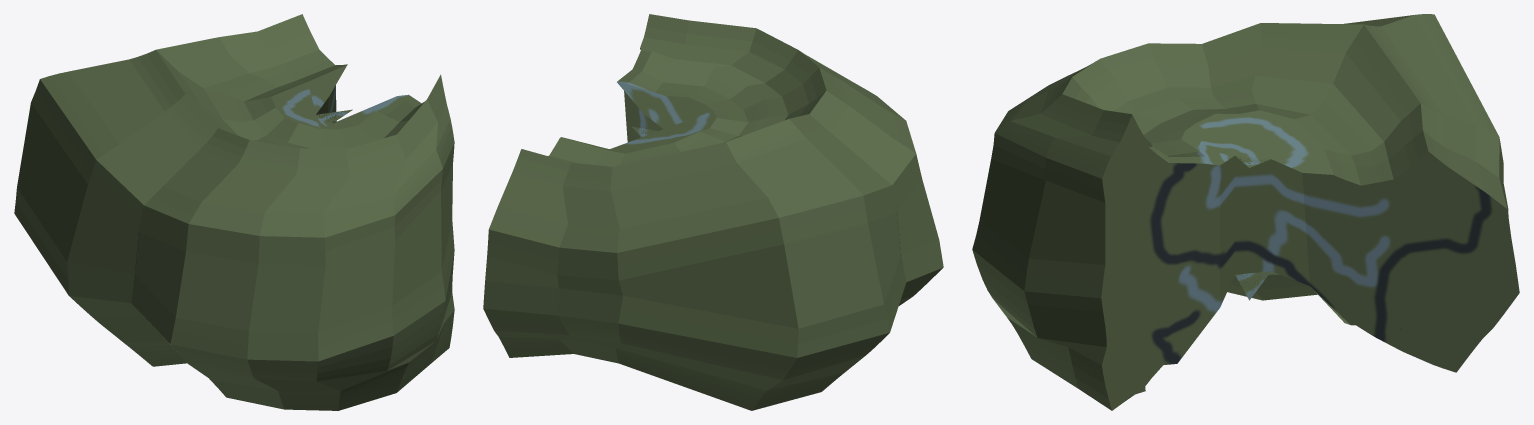
File: kapotteFossil1.glb
3 renders of one model, left to right at view 1: azimuth 30°, elevation 25°; view 2: azimuth 150°, elevation 25°; view 3: azimuth 270°, elevation 25°, orthographic. The views are drawn at different scales.
Visible parts, largest first — view 1: Plane; view 2: Plane; view 3: Plane.
Part boxes in pixels (x1=…): Plane: x1=14, y1=14, x2=454, y2=410; Plane: x1=483, y1=14, x2=943, y2=410; Plane: x1=972, y1=14, x2=1519, y2=410.
Bounding box in the file's own units: 1.44 × 1.25 × 2.
Materials: 1 (1 with a texture image).
